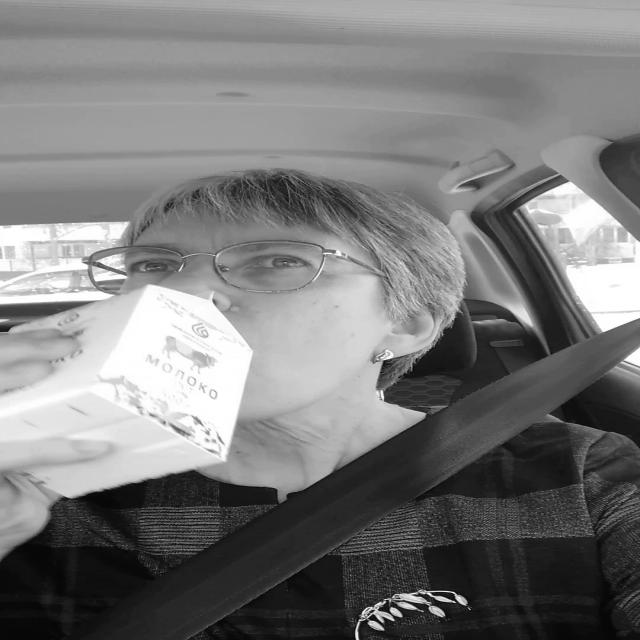Drinking: (14, 285, 252, 498)
Seatbelt: (137, 334, 640, 640)
